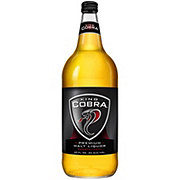bottle: (59, 1, 121, 180)
